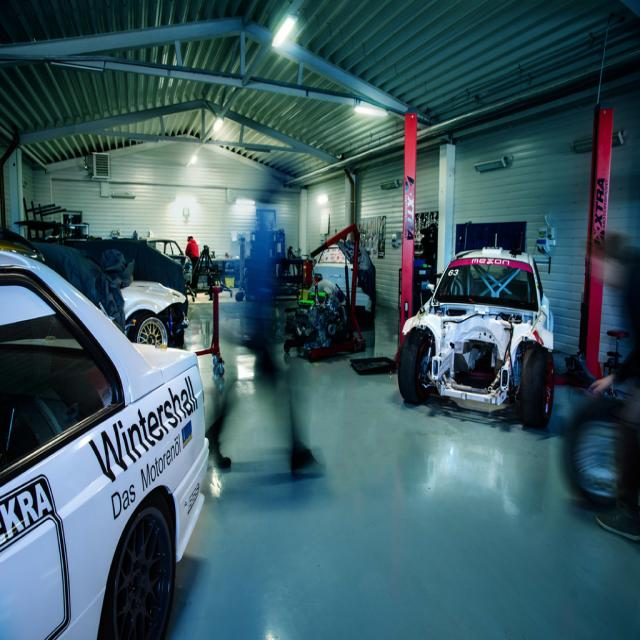car: (395, 237, 557, 422)
